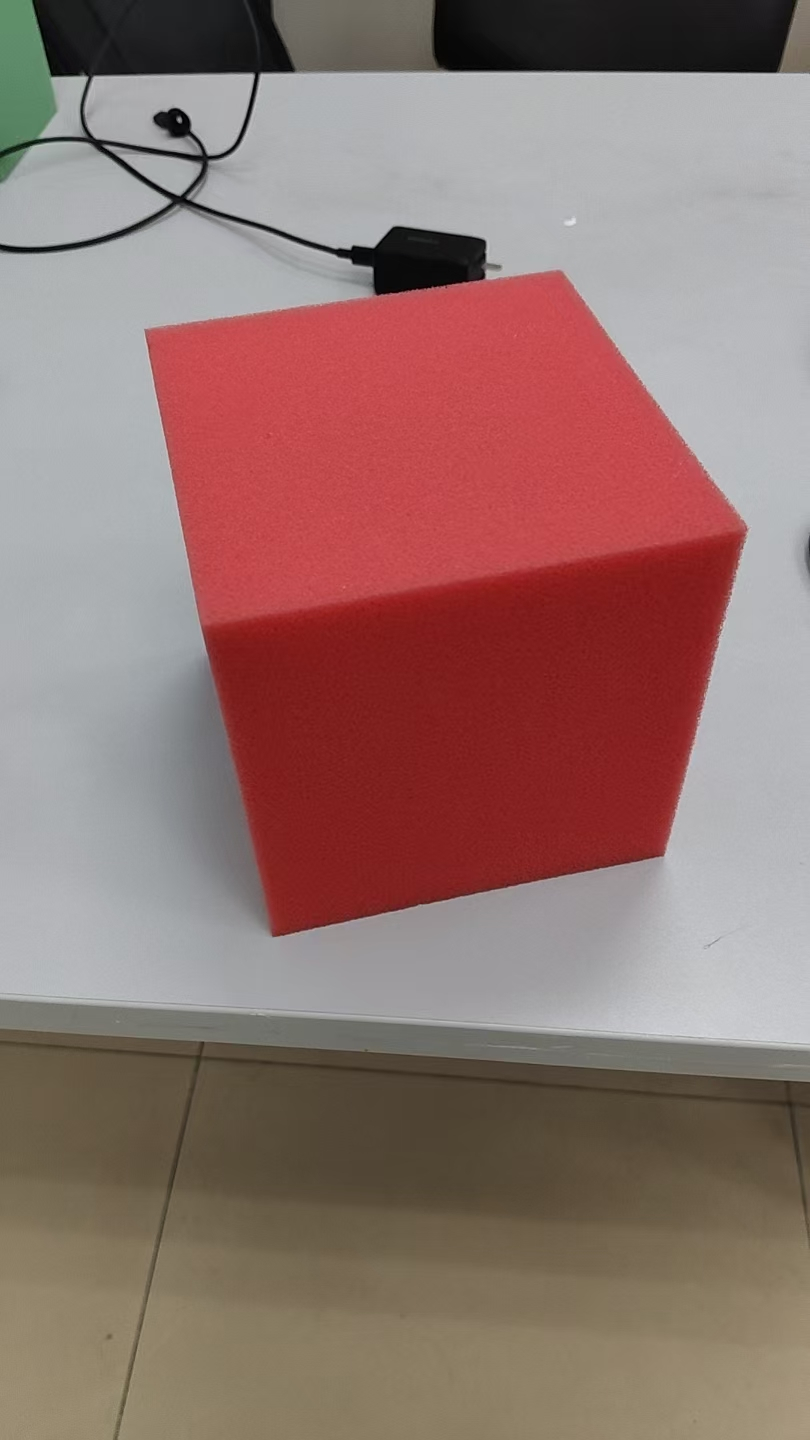red_large: (140, 268, 746, 935)
